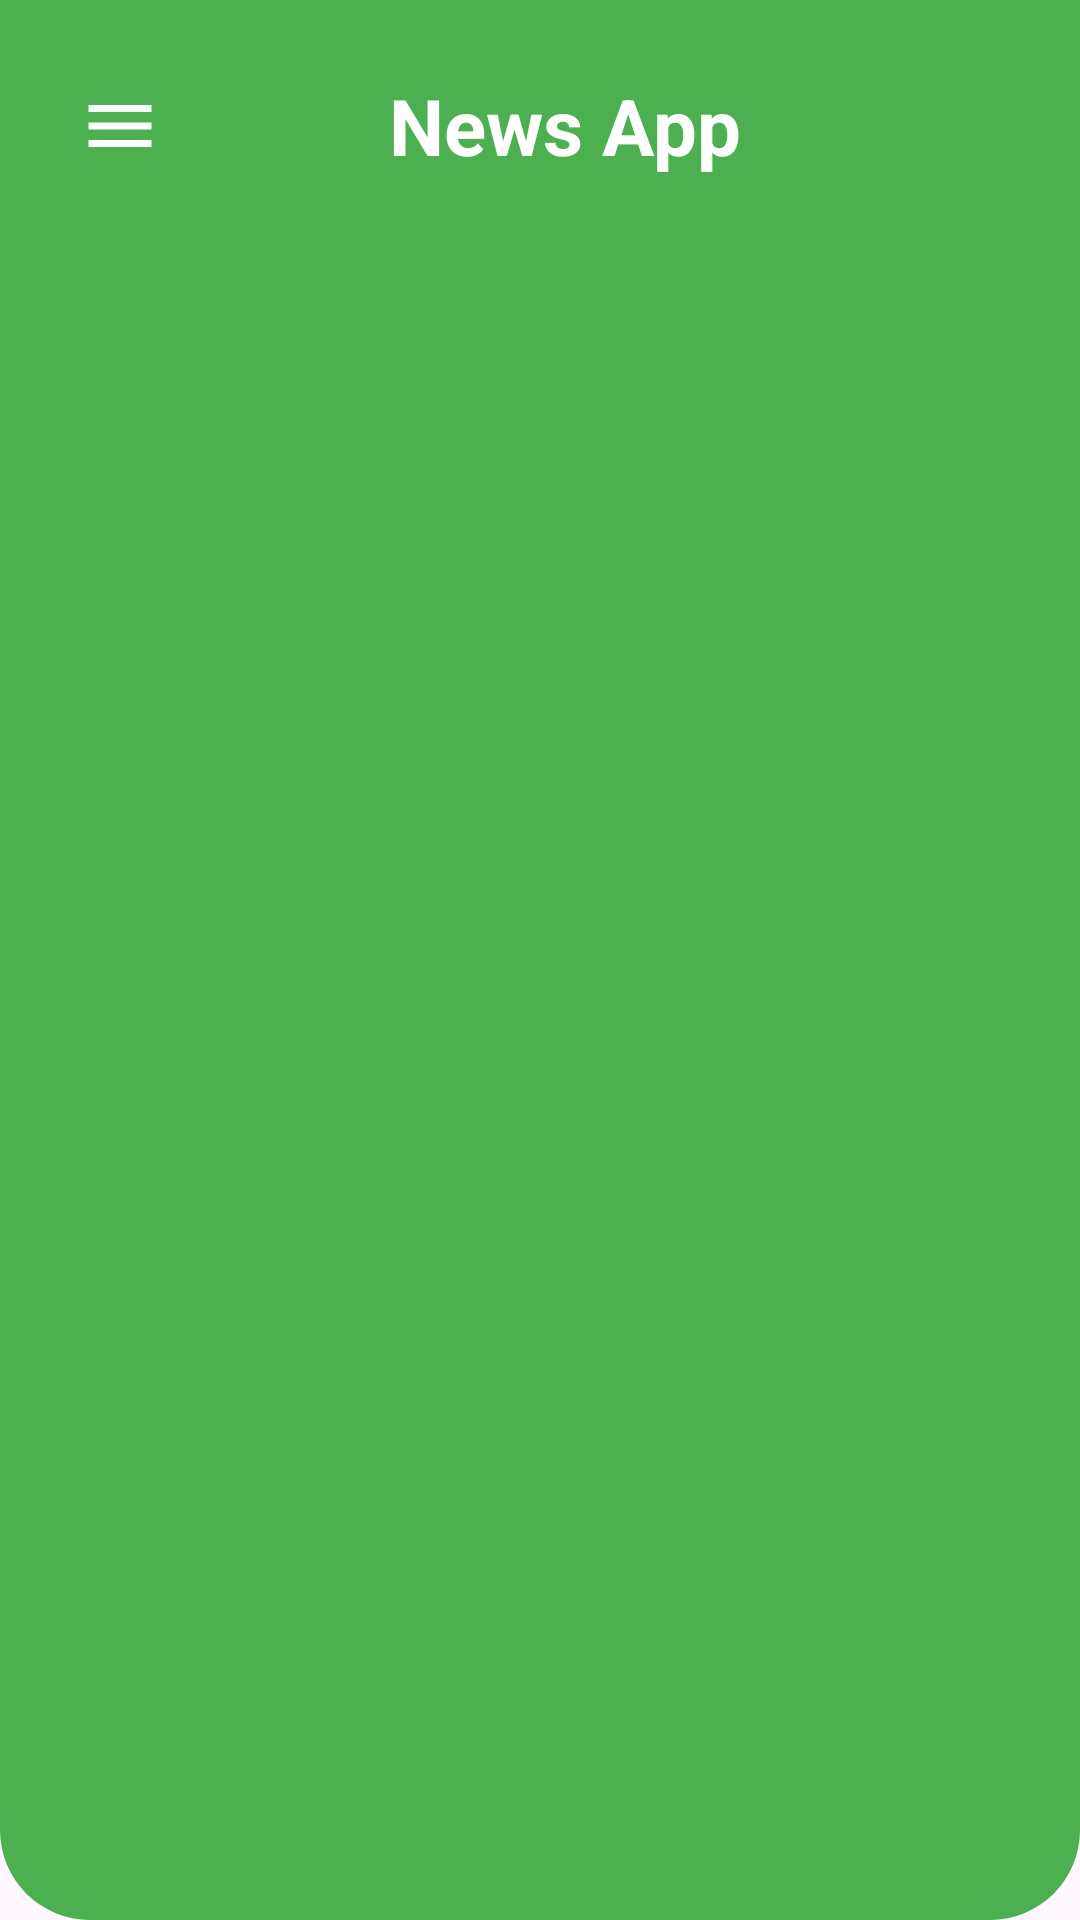

Screen size 1080px×1920px. Icon name, then its box in pixels as (x1, y1, x2, y2):
drawer: (88, 105, 152, 147)
